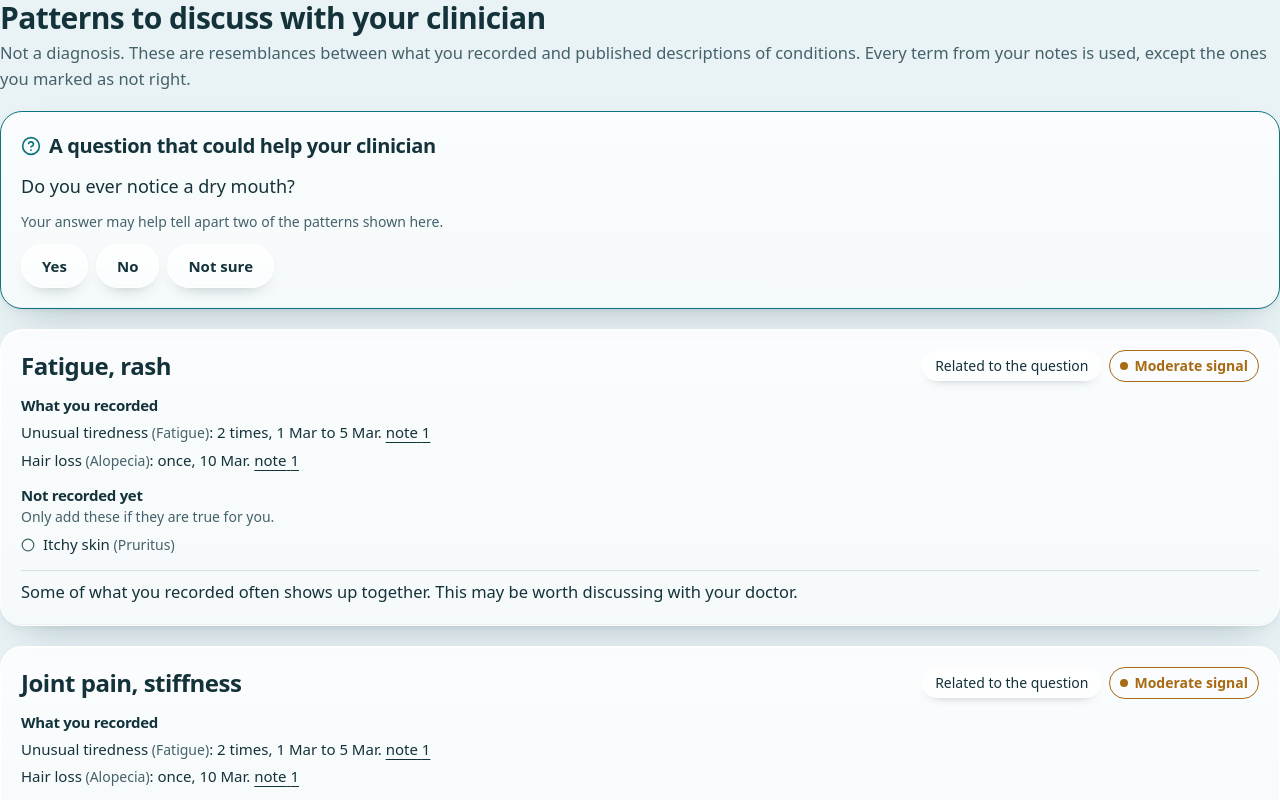
Test: patterns page › leads with evidence in everyday words, shows no condition name, and reorders after an answer
The image size is (1280, 800).
Check: the text "Not a diagnosis" is shown once, box 0,40 -> 1279,91
Check: the text "Unusual tiredness (Fatigue)" below "Fatigue, rash" is shown, box 21,422 -> 209,442
What coordinates should you click on to do the following:
click the button "Yes"
I would click on:
 (54, 266)
Its box is 21,244 -> 88,288.
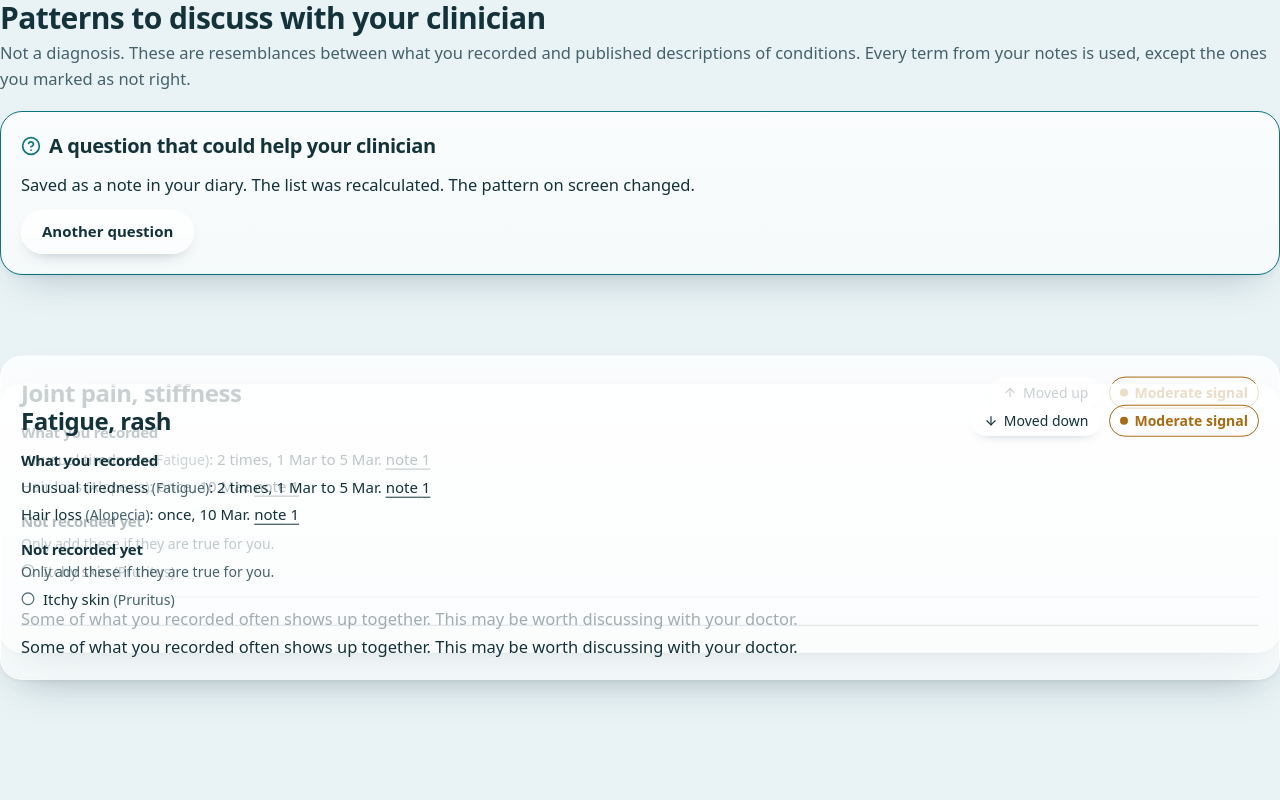
Check: the message shows "pattern on screen changed", box 21,173 -> 695,196
